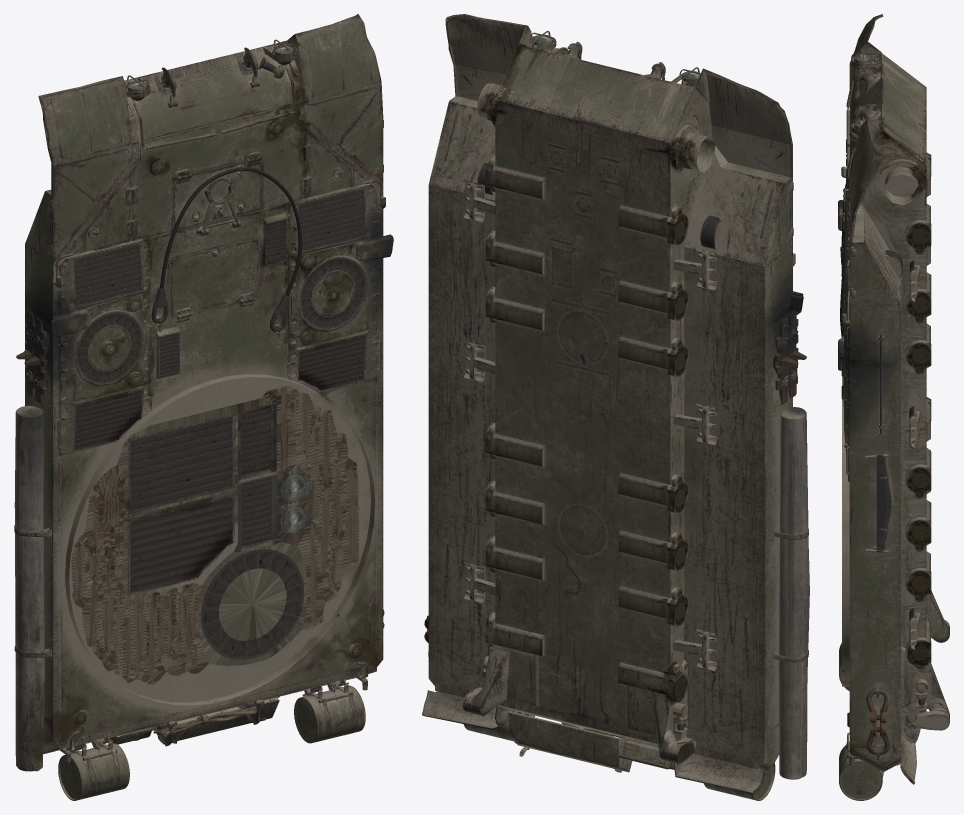
File: Hull.glb
3 views of the same model, side by side, from view 1: azimuth 30°, elevation 25°; view 2: azimuth 150°, elevation 25°; view 3: azimuth 270°, elevation 25° (orthographic). The views are drawn at different scales.
Visible parts, largest first — view 1: set_0_group_0; view 2: set_0_group_0; view 3: set_0_group_0.
Part boxes in pixels (bbox=[...]): set_0_group_0: bbox=[14, 14, 393, 800]; set_0_group_0: bbox=[422, 14, 809, 800]; set_0_group_0: bbox=[838, 14, 949, 800].
Size of the model in its own units: 3.71 by 6.79 by 1.05.
Materials: 1 (1 with a texture image).
